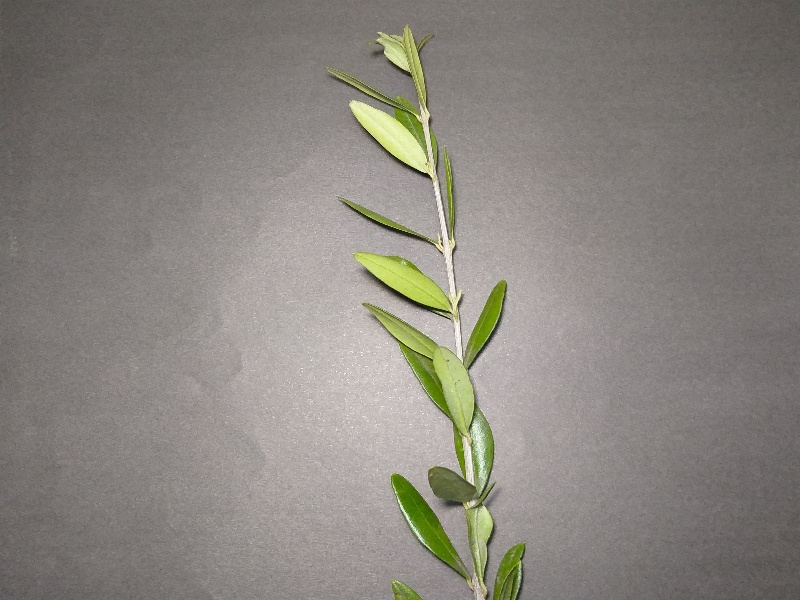yema: (440, 343, 479, 382), (452, 485, 499, 517), (445, 414, 487, 448), (406, 99, 442, 131), (441, 291, 470, 328), (457, 567, 495, 594), (430, 228, 463, 258), (418, 154, 453, 182)
